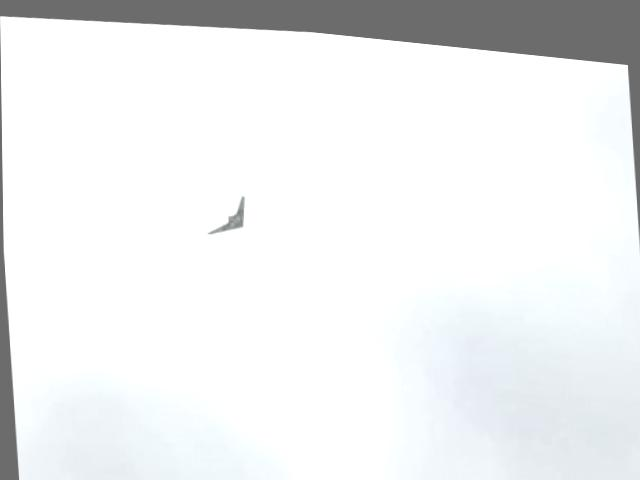flying wing: (202, 184, 251, 241)
